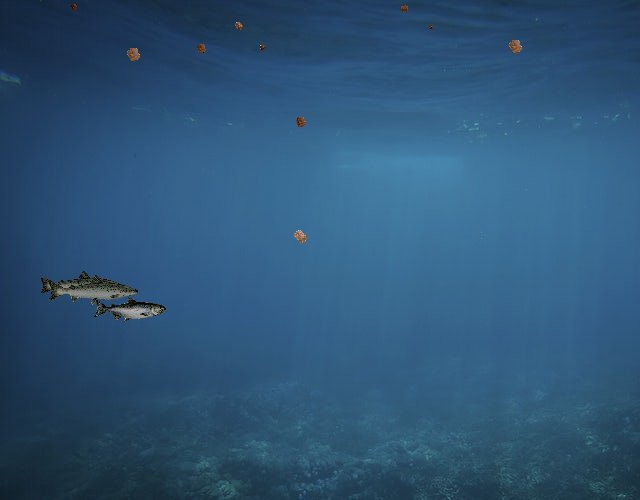Fish: (46, 273, 140, 307), (38, 269, 124, 300), (94, 297, 167, 323)
Pellet: (286, 223, 314, 251), (119, 41, 147, 69), (290, 111, 312, 133), (230, 17, 248, 35), (256, 41, 268, 53)
